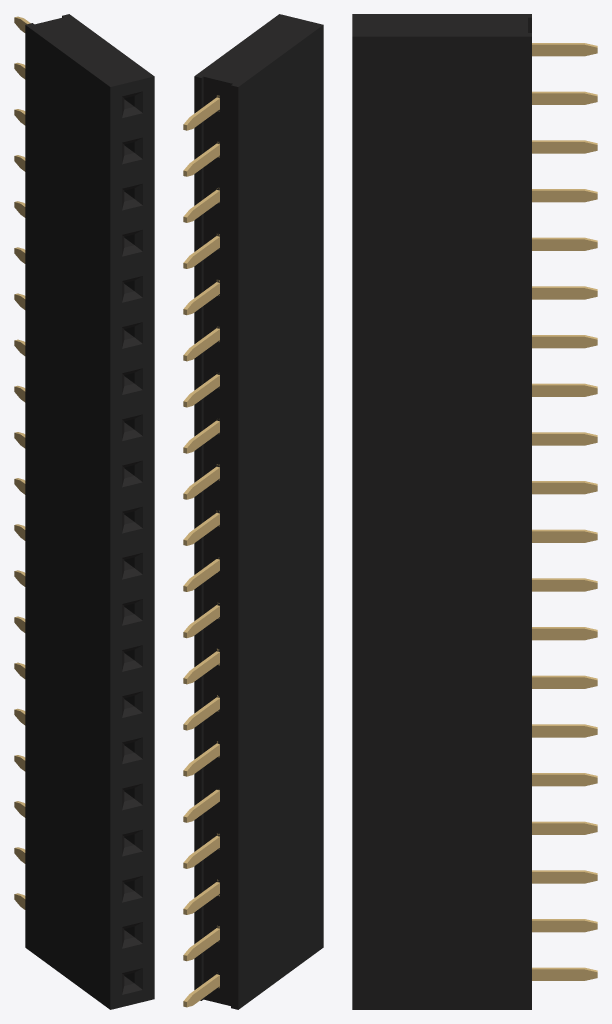
File: socket-1x20.glb
3 renders of one model, left to right at view 1: azimuth 30°, elevation 25°; view 2: azimuth 150°, elevation 25°; view 3: azimuth 270°, elevation 25°, orthographic. The views are drawn at different scales.
Parts seen in each view (by area): view 1: IC-BODY-EPOXY-04, PIN-02; view 2: IC-BODY-EPOXY-04, PIN-02 (×17); view 3: IC-BODY-EPOXY-04, PIN-02 (×16).
Boxes of the visible parts, box(x1,y1,x2,y2) form: IC-BODY-EPOXY-04: box(25, 14, 154, 1009); PIN-02: box(14, 16, 30, 898); IC-BODY-EPOXY-04: box(194, 14, 323, 1009); PIN-02 (×17): box(183, 95, 219, 1007); IC-BODY-EPOXY-04: box(352, 14, 531, 1009); PIN-02 (×16): box(532, 43, 597, 980).
Bounding box in the file's own units: 2.54 × 50.8 × 11.6.
